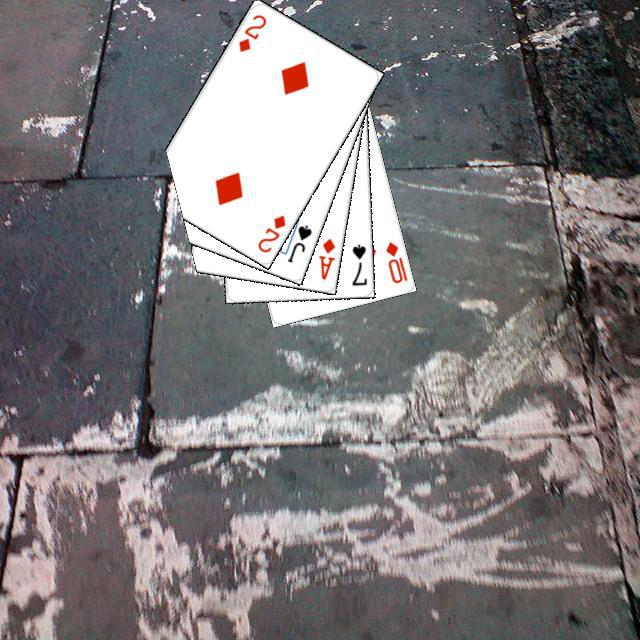10d: (381, 237, 409, 285)
2d: (233, 9, 268, 54), (252, 210, 287, 254)
7s: (347, 239, 369, 287)
Ad: (314, 233, 337, 281)
Js: (283, 220, 313, 264)
